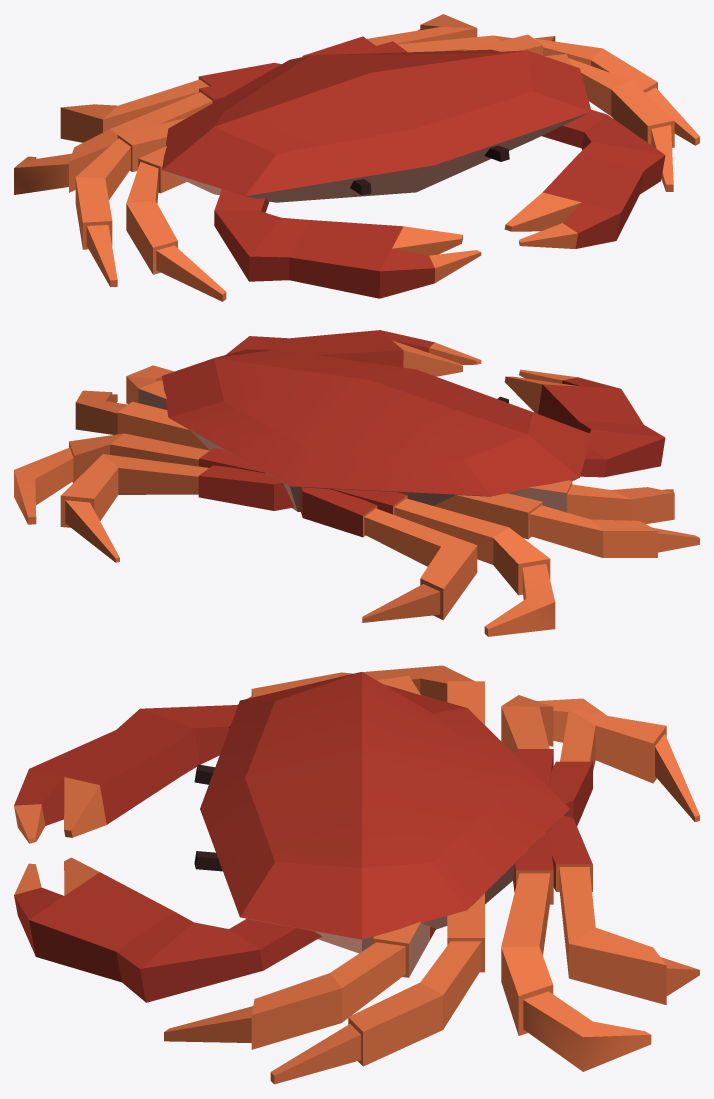
File: Enemy3.obj
3 renders of one model, top to bottom at view 1: azimuth 30°, elevation 25°; view 2: azimuth 150°, elevation 25°; view 3: azimuth 270°, elevation 25°, orthographic. The views are drawn at different scales.
Visible parts, largest first — view 1: Mesh_Crab; view 2: Mesh_Crab; view 3: Mesh_Crab.
Part boxes in pixels (box(x1,y1,x2,y2)): Mesh_Crab: box(14, 14, 699, 301); Mesh_Crab: box(14, 330, 699, 636); Mesh_Crab: box(14, 665, 699, 1084).
Bounding box in the file's own units: 6.5 × 1.26 × 5.11.
